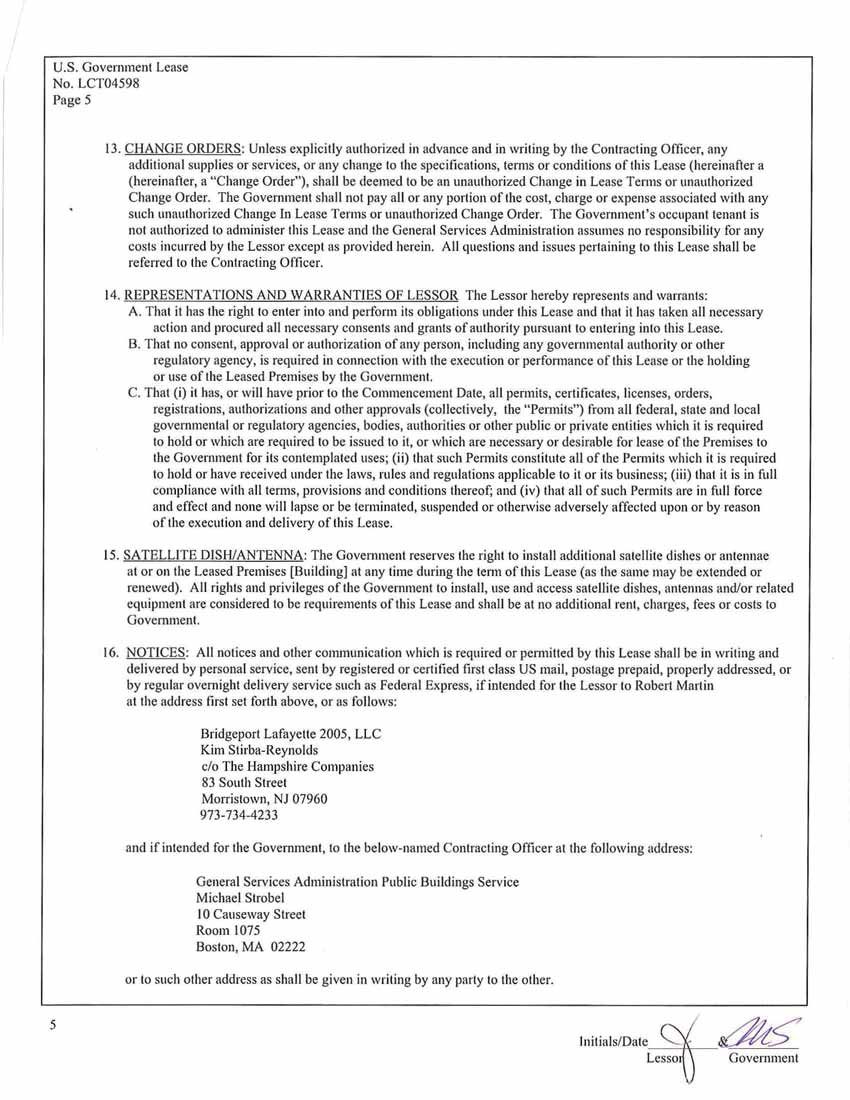handwritten: (721, 1007, 808, 1048), (655, 1009, 702, 1083)
